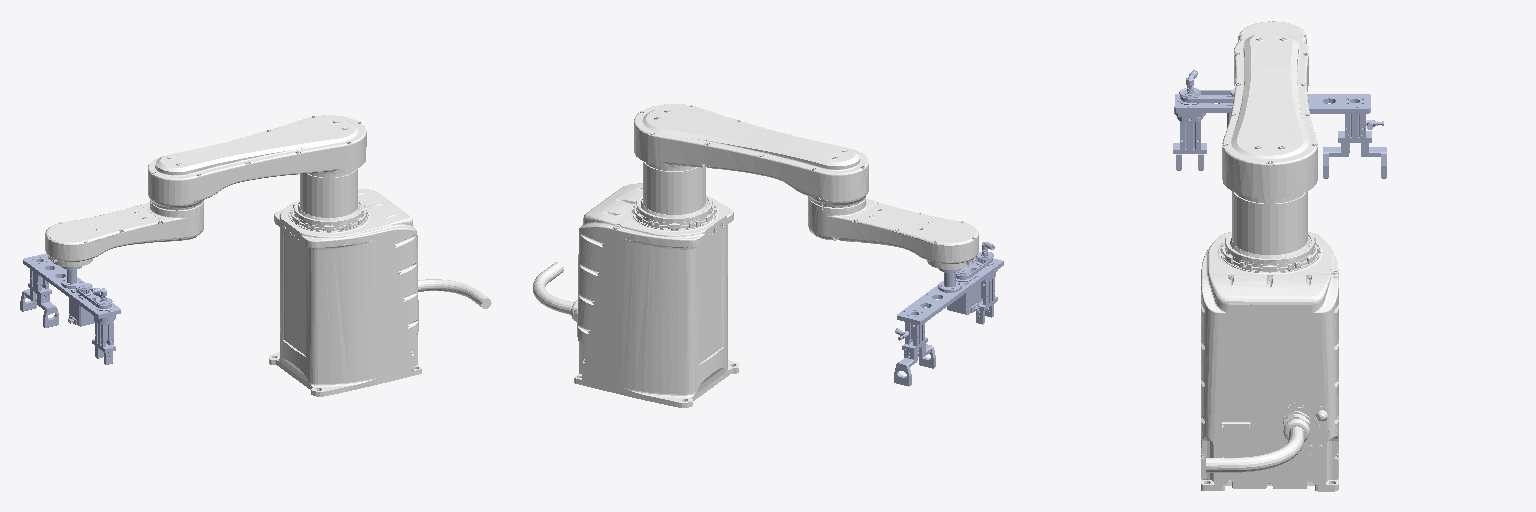
The robot description file, URDF, robot "scara":
<?xml version="1.0" encoding="utf-8" ?>
<!-- This URDF was automatically created by SolidWorks to URDF Exporter! Originally created by [author] ([email redacted]) 
     Commit Version: 1.5.1-0-g916b5db  Build Version: 1.5.7152.31018
     For more information, please see http://wiki.ros.org/sw_urdf_exporter -->
<robot name="scara">
    <!-- world link and joint-->
    <link name="world" />
    <joint name="scara_world_fixed" type="fixed">
        <origin xyz="1.5835 -1.19925 0.619" rpy="0 0 3.14" />
        <parent link="world" />
        <child link="scara_base" />
    </joint>
    <!-- scara_base link and joint-->
    <link name="scara_base">
        
<inertial>
            <origin xyz="-0.0466275884373692 -7.54447678475365E-05 0.147790495095133" rpy="0 0 0" />
            <mass value="11.1692970013821" />
            <inertia ixx="0.13010207054382" ixy="4.91663865320639E-05" ixz="0.00338898625463288" iyy="0.139730089593404" iyz="-3.52441868421469E-05" izz="0.0821726216595377" />
        </inertial>

        <visual>
            <origin xyz="0 0 0" rpy="0 0 0" />
            <geometry>
                <mesh filename="package://scara/meshes/scara_base.STL" />
            </geometry>
            <material name="">
                <color rgba="1 1 1 1" />
            </material>
        </visual>
        <collision>
            <origin xyz="0 0 0" rpy="0 0 0" />
            <geometry>
                <mesh filename="package://scara/meshes/scara_base.STL" />
            </geometry>
        </collision>
    </link>
    <!-- scara_1_link link and joint-->
    <link name="scara_1_link">
        
<inertial>
            <origin xyz="3.20381253471336E-08 2.33217980830092E-08 -0.110508211821609" rpy="0 0 0" />
            <mass value="2.07035864610089" />
            <inertia ixx="0.00977079435343695" ixy="-1.31401460512319E-34" ixz="7.87030913007697E-19" iyy="0.00977079435343695" iyz="-3.18556914854321E-35" izz="0.00310989168274389" />
        </inertial>

        <visual>
            <origin xyz="0 0 0" rpy="0 0 0" />
            <geometry>
                <mesh filename="package://scara/meshes/scara_1_link.STL" />
            </geometry>
            <material name="">
                <color rgba="1 1 1 1" />
            </material>
        </visual>
        <collision>
            <origin xyz="0 0 0" rpy="0 0 0" />
            <geometry>
                <mesh filename="package://scara/meshes/scara_1_link.STL" />
            </geometry>
        </collision>
    </link>
    <joint name="scara_1_joint" type="prismatic">
        <origin xyz="0 0 0.4381" rpy="0 0 0" />
        <parent link="scara_base" />
        <child link="scara_1_link" />
        <axis xyz="0 0 1" />
        <limit lower="-0.085" upper="0.11650" effort="500" velocity="40" />
    </joint>
    <!-- scara_2_link link and joint-->
    <link name="scara_2_link">
        
<inertial>
            <origin xyz="0.148735646317378 -0.000762470295352237 0.031712783245286" rpy="0 0 0" />
            <mass value="2.70259783283018" />
            <inertia ixx="0.00357952697118074" ixy="0.000229156793983873" ixz="-0.000269075859434019" iyy="0.0471392691523691" iyz="2.37986815404708E-06" izz="0.0491336874119309" />
        </inertial>

        <visual>
            <origin xyz="0 0 0" rpy="0 0 0" />
            <geometry>
                <mesh filename="package://scara/meshes/scara_2_link.STL" />
            </geometry>
            <material name="">
                <color rgba="1 1 1 1" />
            </material>
        </visual>
        <collision>
            <origin xyz="0 0 0" rpy="0 0 0" />
            <geometry>
                <mesh filename="package://scara/meshes/scara_2_link.STL" />
            </geometry>
        </collision>
    </link>
    <joint name="scara_2_joint" type="revolute">
        <origin xyz="0 0 0" rpy="0 0 0" />
        <parent link="scara_1_link" />
        <child link="scara_2_link" />
        <axis xyz="0 0 -1" />
        <limit lower="-3.14" upper="3.14" effort="100" velocity="40" />
    </joint>
    <!-- scara_3_link link and joint-->
    <link name="scara_3_link">
        
<inertial>
            <origin xyz="0.0958766917944747 -0.000499719606443169 -0.0340646007252448" rpy="0 0 0" />
            <mass value="1.38477026907103" />
            <inertia ixx="0.00127343450906758" ixy="6.28271953355909E-05" ixz="0.00051849278101448" iyy="0.0132231623783675" iyz="-2.80329894095281E-06" izz="0.0136929938776214" />
        </inertial>

        <visual>
            <origin xyz="0 0 0" rpy="0 0 0" />
            <geometry>
                <mesh filename="package://scara/meshes/scara_3_link.STL" />
            </geometry>
            <material name="">
                <color rgba="1 1 1 1" />
            </material>
        </visual>
        <collision>
            <origin xyz="0 0 0" rpy="0 0 0" />
            <geometry>
                <mesh filename="package://scara/meshes/scara_3_link.STL" />
            </geometry>
        </collision>
    </link>
    <joint name="scara_3_joint" type="revolute">
        <origin xyz="0.325 -0.0017021 -0.012" rpy="0 0 0" />
        <parent link="scara_2_link" />
        <child link="scara_3_link" />
        <axis xyz="0 0 -1" />
        <limit lower="-3.14" upper="3.14" effort="100" velocity="40" />
    </joint>
    <!-- scara_4_link link and joint-->
    <link name="scara_4_link">
        
<inertial>
            <origin xyz="6.95027257793801E-05 -3.63984386360372E-07 0.000689833061898182" rpy="0 0 0" />
            <mass value="0.0129232855696263" />
            <inertia ixx="2.07522360745798E-06" ixy="-2.7138155056434E-10" ixz="1.1234797000263E-09" iyy="2.02340479065693E-06" iyz="-5.88364073970398E-12" izz="3.9226504846675E-06" />
        </inertial>

        <visual>
            <origin xyz="0 0 0" rpy="0 0 0" />
            <geometry>
                <mesh filename="package://scara/meshes/scara_4_link.STL" />
            </geometry>
            <material name="">
                <color rgba="1 1 1 1" />
            </material>
        </visual>
        <collision>
            <origin xyz="0 0 0" rpy="0 0 0" />
            <geometry>
                <mesh filename="package://scara/meshes/scara_4_link.STL" />
            </geometry>
        </collision>
    </link>
    <joint name="scara_4_joint" type="revolute">
        <origin xyz="0.225 -0.0011784 -0.0698" rpy="0 0 0" />
        <parent link="scara_3_link" />
        <child link="scara_4_link" />
        <axis xyz="0 0 -1" />
        <limit lower="-3.14" upper="3.14" effort="100" velocity="40" />
    </joint>
    <!-- scara_dualgrip_base link and joint-->
    <link name="scara_dualgrip_base">
        
<inertial>
            <origin xyz="7.23453146960797E-05 0.0096759451788067 -0.0623140847365389" rpy="0 0 0" />
            <mass value="0.263003665739401" />
            <inertia ixx="0.000670146640576069" ixy="3.29100493249028E-08" ixz="3.65215199677724E-07" iyy="7.43861628431838E-05" iyz="2.8459464241585E-08" izz="0.000677529422106354" />
        </inertial>

        <visual>
            <origin xyz="0 0 0" rpy="0 0 0" />
            <geometry>
                <mesh filename="package://scara/meshes/scara_dualgrip_base.STL" />
            </geometry>
            <material name="">
                <color rgba="0.792156862745098 0.819607843137255 0.933333333333333 1" />
            </material>
        </visual>
        <collision>
            <origin xyz="0 0 0" rpy="0 0 0" />
            <geometry>
                <mesh filename="package://scara/meshes/scara_dualgrip_base.STL" />
            </geometry>
        </collision>
    </link>
    <joint name="scara_dualgrip_base_joint" type="revolute">
        <origin xyz="0 0 -0.005" rpy="0 0 0" />
        <parent link="scara_4_link" />
        <child link="scara_dualgrip_base" />
        <axis xyz="0 0 -1" />
        <limit lower="-0.05" upper="0.05" effort="100" velocity="40" />
    </joint>
    <!-- scara_dualgrip_revolute_link link and joint-->
    <link name="scara_dualgrip_revolute_link">
        
<inertial>
            <origin xyz="3.81496737639278E-05 1.36618258396309E-05 -0.0262312800603783" rpy="0 0 0" />
            <mass value="0.0412031537944349" />
            <inertia ixx="1.31166262545024E-05" ixy="1.21675796434348E-08" ixz="1.83190947535316E-08" iyy="1.12591132372413E-05" iyz="-2.96212418885922E-08" izz="5.89768426049309E-06" />
        </inertial>

        <visual>
            <origin xyz="0 0 0" rpy="0 0 0" />
            <geometry>
                <mesh filename="package://scara/meshes/scara_dualgrip_revolute_link.STL" />
            </geometry>
            <material name="">
                <color rgba="0.792156862745098 0.819607843137255 0.933333333333333 1" />
            </material>
        </visual>
        <collision>
            <origin xyz="0 0 0" rpy="0 0 0" />
            <geometry>
                <mesh filename="package://scara/meshes/scara_dualgrip_revolute_link.STL" />
            </geometry>
        </collision>
    </link>
    <joint name="scara_dualgrip_revolute_joint" type="revolute">
        <origin xyz="0 0.12 -0.067" rpy="0 0 0" />
        <parent link="scara_dualgrip_base" />
        <child link="scara_dualgrip_revolute_link" />
        <axis xyz="0 0 -1" />
        <limit lower="-3.14" upper="3.14" effort="100" velocity="40" />
    </joint>
    <!-- scara_dualgrip_small_grip_ref link for moveit ref-->
    <link name="scara_dualgrip_small_grip_ref" />
    <joint name="scara_dualgrip_small_grip_joint" type="fixed">
        <origin xyz="0 0.12 -0.067" rpy="0 0 0" />
        <parent link="scara_dualgrip_base" />
        <child link="scara_dualgrip_small_grip_ref" />
    </joint>
    <!-- scara_dualgrip_small_leftgrip link and joint-->
    <link name="scara_dualgrip_small_leftgrip">
        
<inertial>
            <origin xyz="-1.00613961606655E-16 -0.0159463907864763 -0.015552406077585" rpy="0 0 0" />
            <mass value="0.00367800685678276" />
            <inertia ixx="2.19007418255852E-07" ixy="2.14778601846179E-24" ixz="-5.32104052626083E-23" iyy="2.37492317797964E-07" iyz="1.01307940849081E-08" izz="8.79189398484812E-08" />
        </inertial>

        <visual>
            <origin xyz="0 0 0" rpy="0 0 0" />
            <geometry>
                <mesh filename="package://scara/meshes/scara_dualgrip_small_leftgrip.STL" />
            </geometry>
            <material name="">
                <color rgba="0.792156862745098 0.819607843137255 0.933333333333333 1" />
            </material>
        </visual>
        <collision>
            <origin xyz="0 0 0" rpy="0 0 0" />
            <geometry>
                <mesh filename="package://scara/meshes/scara_dualgrip_small_leftgrip.STL" />
            </geometry>
        </collision>
    </link>
    <joint name="scara_dualgrip_small_leftgrip_joint" type="prismatic">
        <origin xyz="0 0 -0.057" rpy="0 0 0" />
        <parent link="scara_dualgrip_revolute_link" />
        <child link="scara_dualgrip_small_leftgrip" />
        <axis xyz="0 1 0" />
        <limit lower="-0.1" upper="0.007" effort="100" velocity="40" />
    </joint>
    <!-- scara_dualgrip_small_rightgrip link and joint-->
    <link name="scara_dualgrip_small_rightgrip">
        
<inertial>
            <origin xyz="-7.28583859910259E-17 0.0159463907864763 -0.015552406077585" rpy="0 0 0" />
            <mass value="0.00367800685678277" />
            <inertia ixx="2.19007418255853E-07" ixy="6.18044644883526E-24" ixz="-1.87272320828515E-23" iyy="2.37492317797965E-07" iyz="-1.01307940849081E-08" izz="8.79189398484812E-08" />
        </inertial>

        <visual>
            <origin xyz="0 0 0" rpy="0 0 0" />
            <geometry>
                <mesh filename="package://scara/meshes/scara_dualgrip_small_rightgrip.STL" />
            </geometry>
            <material name="">
                <color rgba="0.792156862745098 0.819607843137255 0.933333333333333 1" />
            </material>
        </visual>
        <collision>
            <origin xyz="0 0 0" rpy="0 0 0" />
            <geometry>
                <mesh filename="package://scara/meshes/scara_dualgrip_small_rightgrip.STL" />
            </geometry>
        </collision>
    </link>
    <joint name="scara_dualgrip_small_rightgrip_joint" type="prismatic">
        <origin xyz="0 0 -0.057" rpy="0 0 0" />
        <parent link="scara_dualgrip_revolute_link" />
        <child link="scara_dualgrip_small_rightgrip" />
        <axis xyz="0 -1 0" />
        <limit lower="-0.1" upper="0.007" effort="100" velocity="40" />
    </joint>
    <!-- scara_dualgrip_big_grip_ref link for moveit ref-->
    <link name="scara_dualgrip_big_grip_ref" />
    <joint name="scara_dualgrip_big_grip_joint" type="fixed">
        <origin xyz="0 -0.12 -0.105" rpy="0 0 0" />
        <parent link="scara_dualgrip_base" />
        <child link="scara_dualgrip_big_grip_ref" />
    </joint>
    <!-- scara_dualgrip_big_leftgrip link and joint-->
    <link name="scara_dualgrip_big_leftgrip">
        
<inertial>
            <origin xyz="-2.97158131434827E-15 -0.029542090561631 -0.0292360515169633" rpy="0 0 0" />
            <mass value="0.0155463327571982" />
            <inertia ixx="5.29388252092913E-06" ixy="2.10876193989921E-20" ixz="2.62074645036157E-20" iyy="3.85312396276869E-06" iyz="-1.83400532280862E-06" izz="3.04227513765101E-06" />
        </inertial>

        <visual>
            <origin xyz="0 0 0" rpy="0 0 0" />
            <geometry>
                <mesh filename="package://scara/meshes/scara_dualgrip_big_leftgrip.STL" />
            </geometry>
            <material name="">
                <color rgba="0.792156862745098 0.819607843137255 0.933333333333333 1" />
            </material>
        </visual>
        <collision>
            <origin xyz="0 0 0" rpy="0 0 0" />
            <geometry>
                <mesh filename="package://scara/meshes/scara_dualgrip_big_leftgrip.STL" />
            </geometry>
        </collision>
    </link>
    <joint name="scara_dualgrip_big_leftgrip_joint" type="prismatic">
        <origin xyz="0 -0.12 -0.105" rpy="0 0 0" />
        <parent link="scara_dualgrip_base" />
        <child link="scara_dualgrip_big_leftgrip" />
        <axis xyz="0 1 0" />
        <limit lower="-0.1" upper="0.007" effort="100" velocity="40" />
    </joint>
    <!-- scara_dualgrip_big_rightgrip link and joint-->
    <link name="scara_dualgrip_big_rightgrip">
        
<inertial>
            <origin xyz="-8.67361737988404E-17 0.029812848166246 -0.0292360515169632" rpy="0 0 0" />
            <mass value="0.0155463327571982" />
            <inertia ixx="5.29388252092913E-06" ixy="2.22310037740976E-22" ixz="-1.218322141642E-22" iyy="3.85312396276869E-06" iyz="1.83400532280862E-06" izz="3.04227513765101E-06" />
        </inertial>

        <visual>
            <origin xyz="0 0 0" rpy="0 0 0" />
            <geometry>
                <mesh filename="package://scara/meshes/scara_dualgrip_big_rightgrip.STL" />
            </geometry>
            <material name="">
                <color rgba="0.792156862745098 0.819607843137255 0.933333333333333 1" />
            </material>
        </visual>
        <collision>
            <origin xyz="0 0 0" rpy="0 0 0" />
            <geometry>
                <mesh filename="package://scara/meshes/scara_dualgrip_big_rightgrip.STL" />
            </geometry>
        </collision>
    </link>
    <joint name="scara_dualgrip_big_rightgrip_joint" type="prismatic">
        <origin xyz="0 -0.12 -0.105" rpy="0 0 0" />
        <parent link="scara_dualgrip_base" />
        <child link="scara_dualgrip_big_rightgrip" />
        <axis xyz="0 -1 0" />
        <limit lower="-0.1" upper="0.007" effort="100" velocity="40" />
    </joint>
    
<transmission name="trans_scara_1_joint">
        <type>transmission_interface/SimpleTransmission</type>
        <joint name="scara_1_joint">
            <hardwareInterface>hardware_interface/PositionJointInterface</hardwareInterface>
        </joint>
        <actuator name="scara_1_joint_motor">
            <hardwareInterface>hardware_interface/PositionJointInterface</hardwareInterface>
            <mechanicalReduction>1</mechanicalReduction>
        </actuator>
    </transmission>
    <transmission name="trans_scara_2_joint">
        <type>transmission_interface/SimpleTransmission</type>
        <joint name="scara_2_joint">
            <hardwareInterface>hardware_interface/PositionJointInterface</hardwareInterface>
        </joint>
        <actuator name="scara_2_joint_motor">
            <hardwareInterface>hardware_interface/PositionJointInterface</hardwareInterface>
            <mechanicalReduction>1</mechanicalReduction>
        </actuator>
    </transmission>
    <transmission name="trans_scara_3_joint">
        <type>transmission_interface/SimpleTransmission</type>
        <joint name="scara_3_joint">
            <hardwareInterface>hardware_interface/PositionJointInterface</hardwareInterface>
        </joint>
        <actuator name="scara_3_joint_motor">
            <hardwareInterface>hardware_interface/PositionJointInterface</hardwareInterface>
            <mechanicalReduction>1</mechanicalReduction>
        </actuator>
    </transmission>
    <transmission name="trans_scara_4_joint">
        <type>transmission_interface/SimpleTransmission</type>
        <joint name="scara_4_joint">
            <hardwareInterface>hardware_interface/PositionJointInterface</hardwareInterface>
        </joint>
        <actuator name="scara_4_joint_motor">
            <hardwareInterface>hardware_interface/PositionJointInterface</hardwareInterface>
            <mechanicalReduction>1</mechanicalReduction>
        </actuator>
    </transmission>
    <transmission name="trans_scara_dualgrip_base_joint">
        <type>transmission_interface/SimpleTransmission</type>
        <joint name="scara_dualgrip_base_joint">
            <hardwareInterface>hardware_interface/PositionJointInterface</hardwareInterface>
        </joint>
        <actuator name="scara_dualgrip_base_joint_motor">
            <hardwareInterface>hardware_interface/PositionJointInterface</hardwareInterface>
            <mechanicalReduction>1</mechanicalReduction>
        </actuator>
    </transmission>
    <transmission name="trans_scara_dualgrip_revolute_joint">
        <type>transmission_interface/SimpleTransmission</type>
        <joint name="scara_dualgrip_revolute_joint">
            <hardwareInterface>hardware_interface/PositionJointInterface</hardwareInterface>
        </joint>
        <actuator name="scara_dualgrip_revolute_joint_motor">
            <hardwareInterface>hardware_interface/PositionJointInterface</hardwareInterface>
            <mechanicalReduction>1</mechanicalReduction>
        </actuator>
    </transmission>
    <transmission name="trans_scara_dualgrip_small_leftgrip_joint">
        <type>transmission_interface/SimpleTransmission</type>
        <joint name="scara_dualgrip_small_leftgrip_joint">
            <hardwareInterface>hardware_interface/PositionJointInterface</hardwareInterface>
        </joint>
        <actuator name="scara_dualgrip_small_leftgrip_joint_motor">
            <hardwareInterface>hardware_interface/PositionJointInterface</hardwareInterface>
            <mechanicalReduction>1</mechanicalReduction>
        </actuator>
    </transmission>
    <transmission name="trans_scara_dualgrip_small_rightgrip_joint">
        <type>transmission_interface/SimpleTransmission</type>
        <joint name="scara_dualgrip_small_rightgrip_joint">
            <hardwareInterface>hardware_interface/PositionJointInterface</hardwareInterface>
        </joint>
        <actuator name="scara_dualgrip_small_rightgrip_joint_motor">
            <hardwareInterface>hardware_interface/PositionJointInterface</hardwareInterface>
            <mechanicalReduction>1</mechanicalReduction>
        </actuator>
    </transmission>
    <transmission name="trans_scara_dualgrip_big_leftgrip_joint">
        <type>transmission_interface/SimpleTransmission</type>
        <joint name="scara_dualgrip_big_leftgrip_joint">
            <hardwareInterface>hardware_interface/PositionJointInterface</hardwareInterface>
        </joint>
        <actuator name="scara_dualgrip_big_leftgrip_joint_motor">
            <hardwareInterface>hardware_interface/PositionJointInterface</hardwareInterface>
            <mechanicalReduction>1</mechanicalReduction>
        </actuator>
    </transmission>
    <transmission name="trans_scara_dualgrip_big_rightgrip_joint">
        <type>transmission_interface/SimpleTransmission</type>
        <joint name="scara_dualgrip_big_rightgrip_joint">
            <hardwareInterface>hardware_interface/PositionJointInterface</hardwareInterface>
        </joint>
        <actuator name="scara_dualgrip_big_rightgrip_joint_motor">
            <hardwareInterface>hardware_interface/PositionJointInterface</hardwareInterface>
            <mechanicalReduction>1</mechanicalReduction>
        </actuator>
    </transmission>
    <gazebo>
        <plugin name="gazebo_ros_control" filename="libgazebo_ros_control.so">
            <robotNamespace>/</robotNamespace>
        </plugin>
    </gazebo>

 <gazebo>
   <plugin name="gazebo_grasp_fix" filename="libgazebo_grasp_fix.so">
        <arm>
           <arm_name>scara</arm_name>
           <palm_link> scara_dualgrip_base  </palm_link>
           <gripper_link> scara_dualgrip_big_leftgrip </gripper_link>
           <gripper_link> scara_dualgrip_big_rightgrip </gripper_link>
        </arm>
        <arm>
           <arm_name>scara_small</arm_name>
           <palm_link> scara_dualgrip_revolute_link  </palm_link>
           <gripper_link> scara_dualgrip_small_leftgrip </gripper_link>
           <gripper_link> scara_dualgrip_small_rightgrip </gripper_link>
        </arm>
       <forces_angle_tolerance>100</forces_angle_tolerance>
       <update_rate>4</update_rate>11
       <grip_count_threshold>1</grip_count_threshold>
       <max_grip_count>8</max_grip_count>
       <release_tolerance>0.005</release_tolerance>
       <disable_collisions_on_attach>true</disable_collisions_on_attach>
       <contact_topic>__default_topic__</contact_topic>
    </plugin>
</gazebo> 
<gazebo>
  <gripper name="grasping">
    <grasp_check>
     <attach_steps>10</attach_steps>
     <detach_steps>10</detach_steps>
     <min_contact_count>1</min_contact_count>
    </grasp_check>
      <gripper_link>scara_dualgrip_big_leftgrip</gripper_link>
      <gripper_link>scara_dualgrip_big_rightgrip</gripper_link>
      <palm_link>scara_dualgrip_base</palm_link>
  </gripper>
</gazebo>

</robot>

--- What the picture shows (computed from the rendered views, not written in the file) ---
Views: 3 orthographic renders of the robot side by side, from view 1: azimuth 30°, elevation 25°; view 2: azimuth 150°, elevation 25°; view 3: azimuth 270°, elevation 25°.
Model scara with 14 links and 13 joints (5 revolute, 5 prismatic, 3 fixed), rooted at world, posed all joints at 0.
Links seen in each view (by area): view 1: scara_base, scara_2_link, scara_3_link, scara_dualgrip_base, scara_1_link, scara_dualgrip_revolute_link; view 2: scara_base, scara_2_link, scara_3_link, scara_dualgrip_base, scara_1_link, scara_dualgrip_big_leftgrip; view 3: scara_base, scara_2_link, scara_1_link, scara_dualgrip_base, scara_dualgrip_revolute_link, scara_3_link.
Boxes of the visible links, x1,y1,x2,y2 form: scara_base: (269,189,491,396); scara_2_link: (148,115,366,210); scara_3_link: (45,200,203,266); scara_dualgrip_base: (23,254,120,326); scara_1_link: (300,169,357,217); scara_dualgrip_revolute_link: (92,297,115,352); scara_base: (533,183,738,407); scara_2_link: (634,104,868,207); scara_3_link: (808,197,978,269); scara_dualgrip_base: (895,242,1003,351); scara_1_link: (643,161,705,214); scara_dualgrip_big_leftgrip: (894,349,917,386); scara_base: (1201,232,1338,491); scara_2_link: (1222,32,1317,198); scara_1_link: (1232,191,1307,254); scara_dualgrip_base: (1174,70,1383,142); scara_dualgrip_revolute_link: (1173,87,1206,153); scara_3_link: (1238,21,1306,43).
Bounding box of the posed robot: 0.8954 × 0.3104 × 0.5071 m (x, y, z).
11 mesh visuals loaded from 11 distinct referenced files (11 binary STL).